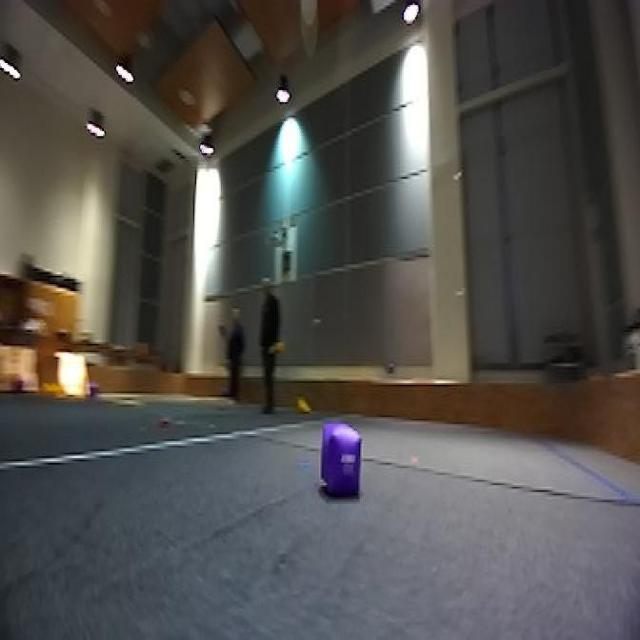frc_cone: (294, 389, 312, 414), (41, 380, 66, 398), (268, 337, 286, 357)
frc_cube: (320, 422, 365, 499), (10, 375, 26, 393), (87, 381, 100, 400)
